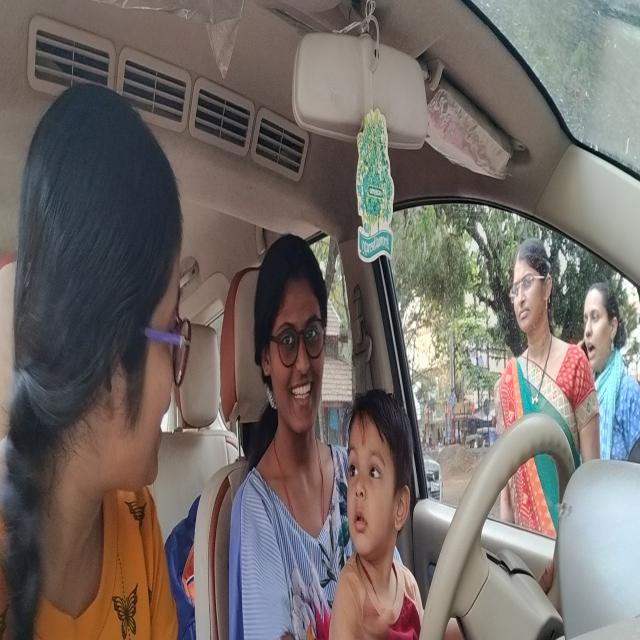child: (343, 381, 415, 564)
person: (8, 70, 194, 498), (252, 230, 332, 441)
